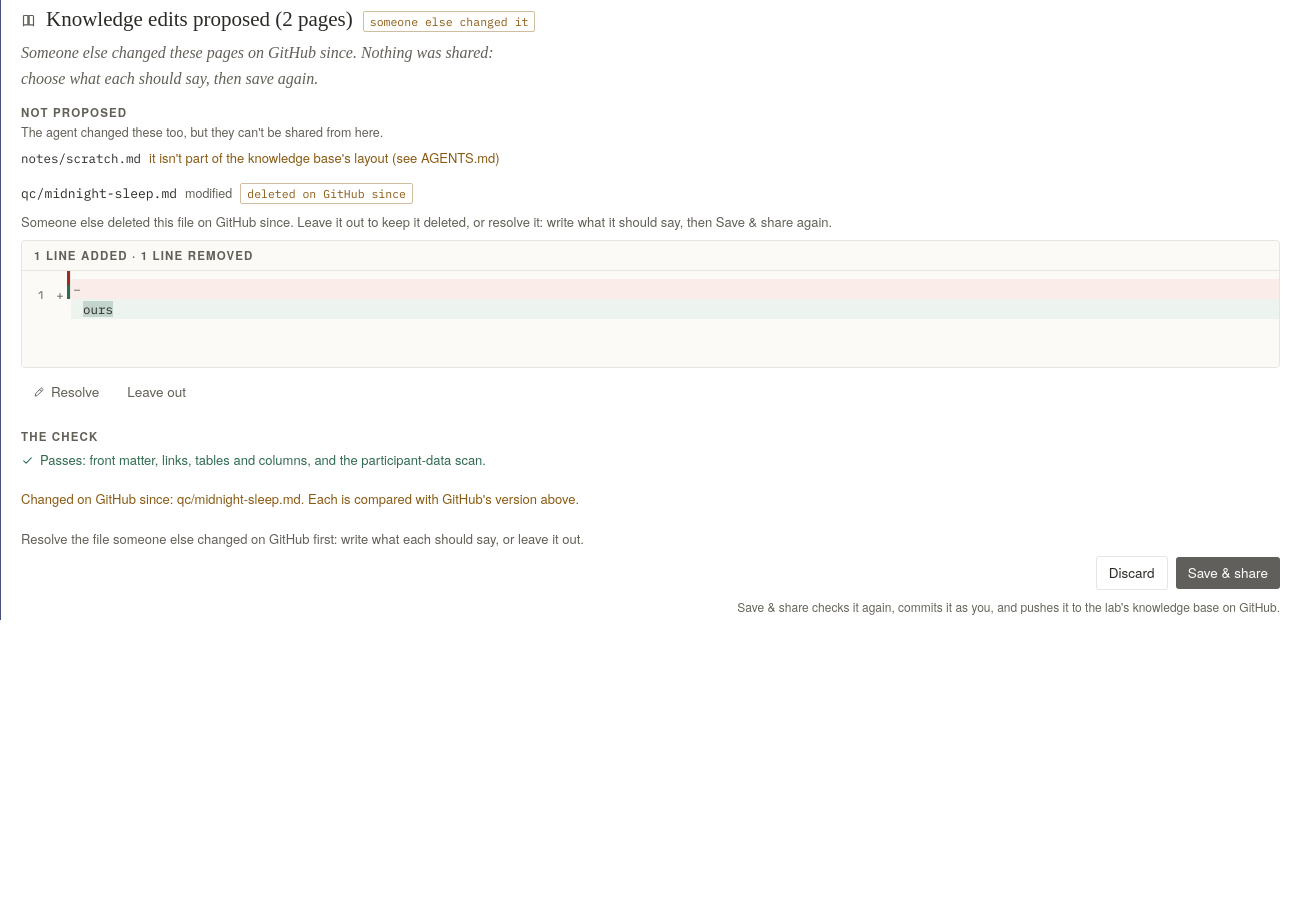
Test case: conflicts GitHub's side of which is gone or isn't text › a file GitHub deleted can be left out, or resolved with text
The width and height of the screenshot is (1292, 900).
Expected: the text "deleted on GitHub since" is shown, x1=240 y1=183 x2=413 y2=204
Expected: the text "Leave it out to keep it deleted" is shown, x1=21 y1=212 x2=832 y2=231
Click the button "Resolve".
click(66, 392)  # box x1=21 y1=376 x2=111 y2=408
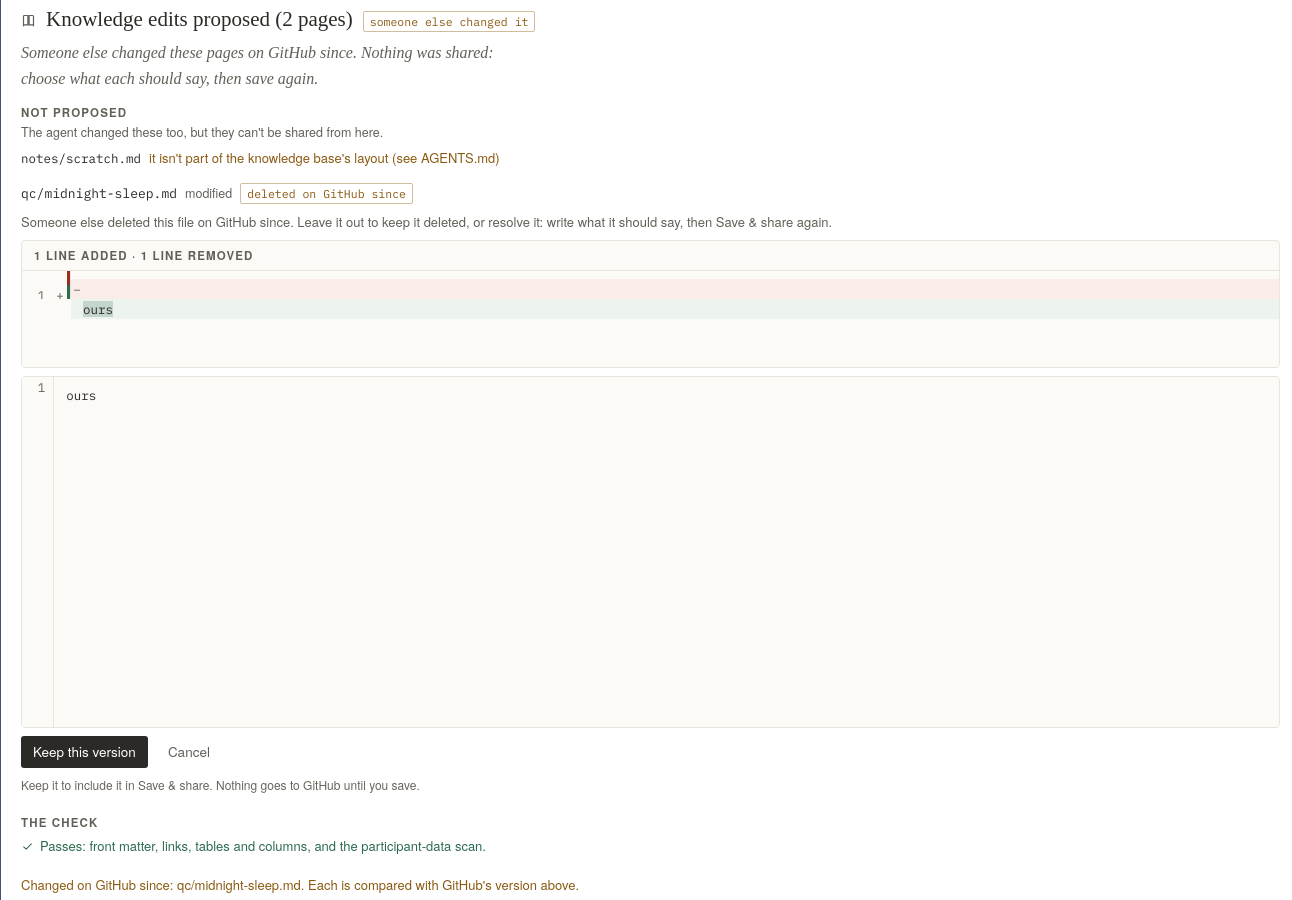
Click the button "Keep this version".
click(84, 752)  # box x1=21 y1=736 x2=148 y2=768
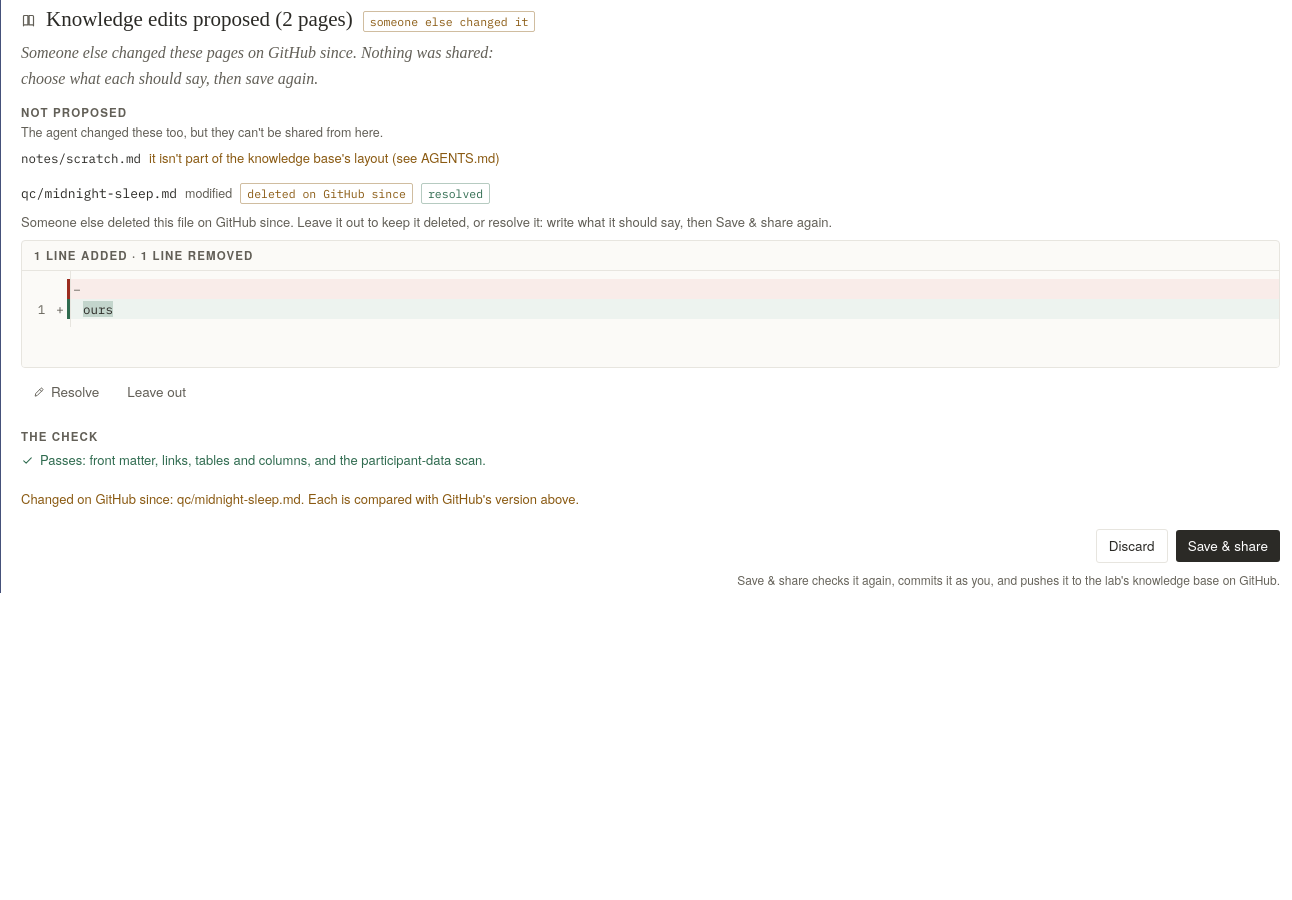
Now the text "resolved" is shown, box x1=421 y1=183 x2=490 y2=204
